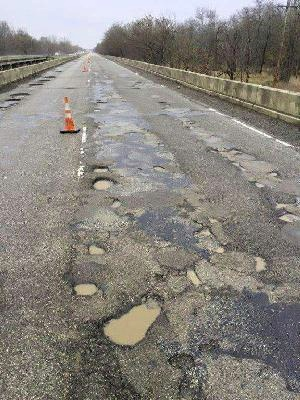pothole: (99, 291, 163, 346), (165, 351, 200, 398), (208, 145, 252, 160), (71, 279, 99, 296), (90, 176, 116, 192), (184, 265, 201, 286), (252, 254, 268, 274), (86, 241, 106, 254), (275, 211, 298, 221), (192, 224, 211, 235), (91, 161, 109, 172), (150, 162, 165, 171), (266, 169, 279, 179), (274, 200, 292, 207), (213, 243, 225, 253), (251, 179, 264, 188)
